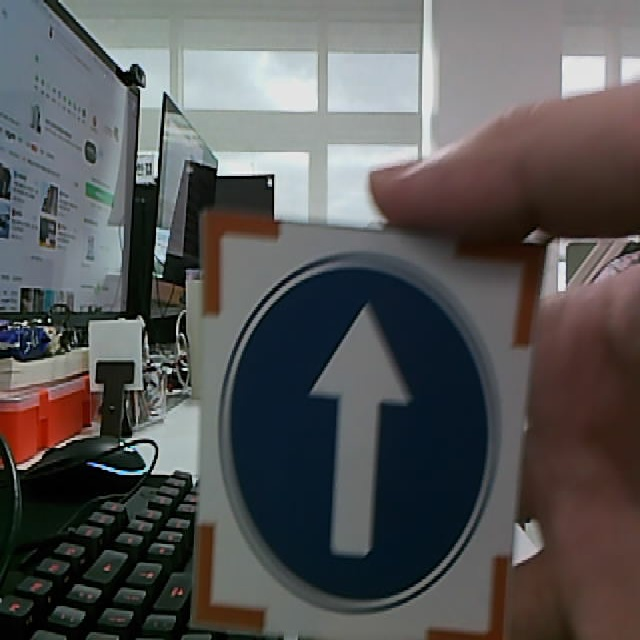straight: (190, 210, 549, 640)
